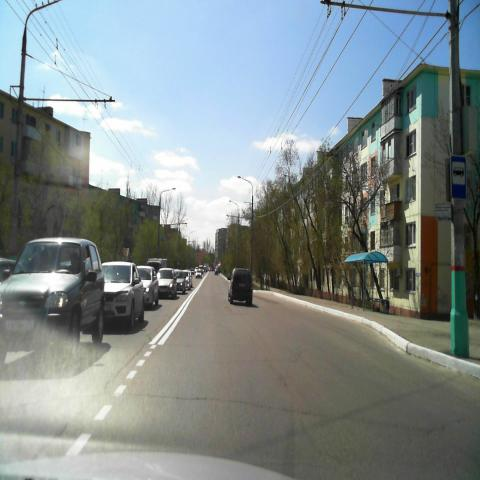5_16: (450, 155, 466, 199)
